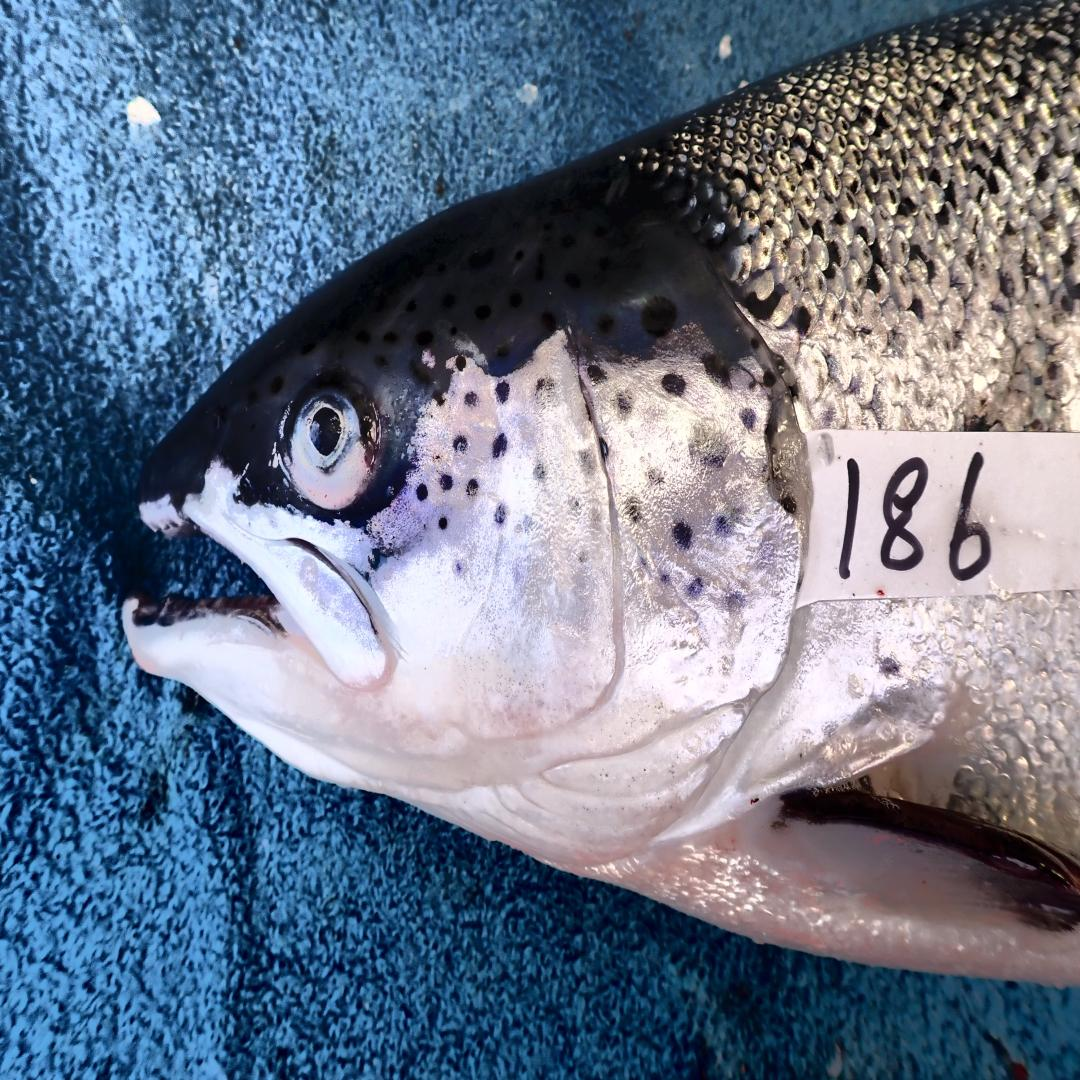spot: (702, 352, 730, 385), (703, 444, 728, 467), (662, 374, 686, 397), (673, 523, 692, 548), (738, 406, 757, 431), (534, 376, 555, 398), (715, 513, 736, 535), (758, 541, 775, 566), (577, 449, 592, 477), (626, 501, 643, 524), (587, 365, 606, 385), (491, 433, 506, 458), (618, 392, 632, 418), (645, 467, 663, 485), (778, 496, 796, 514), (727, 592, 744, 611), (686, 577, 702, 597), (496, 380, 510, 402), (600, 435, 609, 462), (494, 503, 506, 523), (454, 436, 468, 453), (441, 475, 454, 492), (466, 478, 479, 495), (464, 391, 477, 408), (416, 484, 428, 501), (534, 464, 546, 481), (763, 370, 775, 387), (452, 561, 463, 578), (456, 356, 468, 371), (568, 500, 579, 516), (732, 505, 743, 520), (523, 517, 531, 534), (637, 552, 646, 567), (580, 553, 588, 565), (439, 518, 447, 529), (661, 575, 670, 583)
